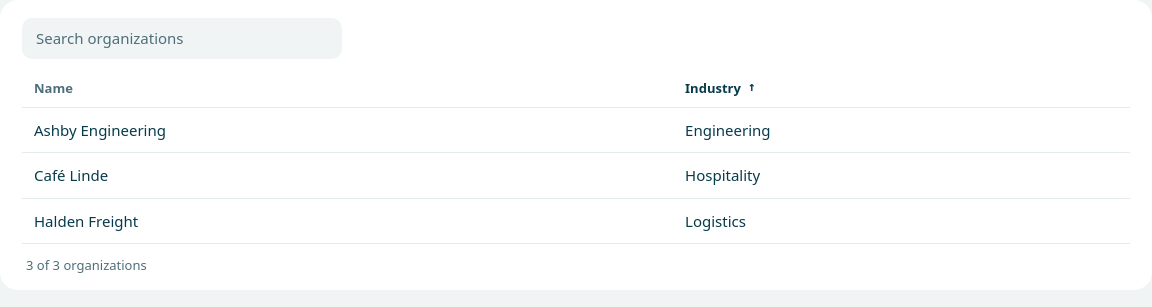
Scenario: odd search text is plain text and shows the empty state
The image size is (1152, 307).
Later steps or results of the test are not shown.
Type "(" into the search field at (182, 38), box [22,18,342,58]
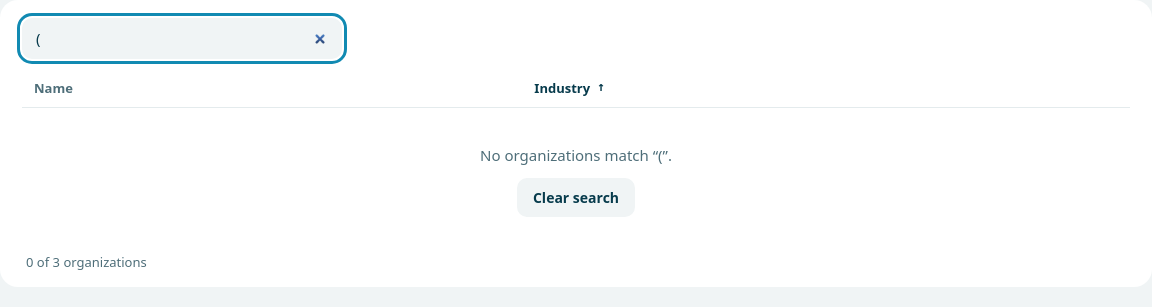
Expected: the text "No organizations match “(”." is shown, [480,144,672,164]
